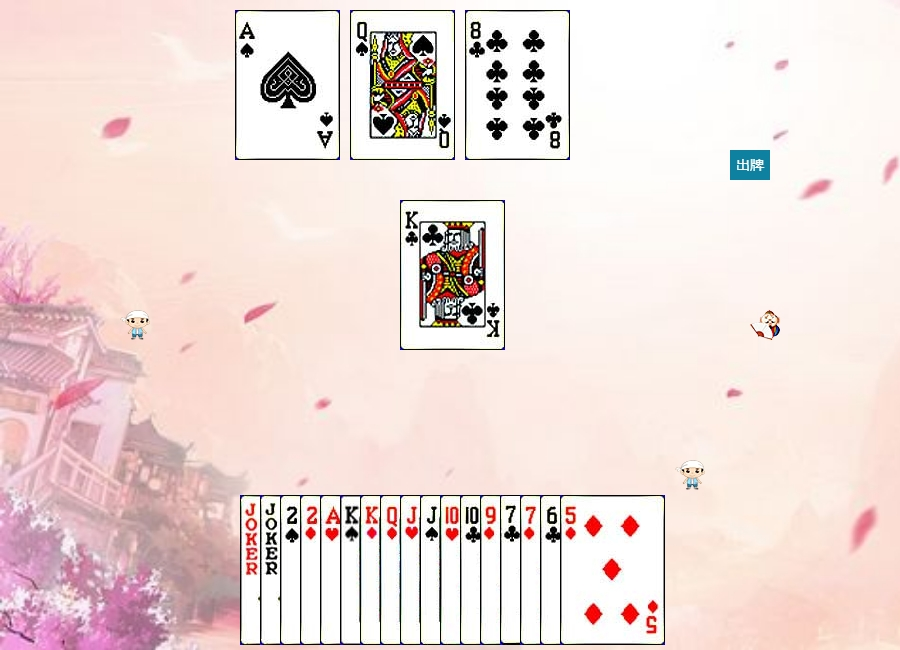10~2: (460, 495, 565, 645)
10~3: (440, 495, 545, 645)
11~3: (400, 495, 505, 645)
11~4: (420, 495, 525, 645)
12~1: (380, 495, 485, 645)
12~4: (350, 10, 455, 160)
13~1: (360, 495, 465, 645)
13~2: (400, 200, 505, 350)
13~4: (340, 495, 445, 645)
14~3: (320, 495, 425, 645)
14~4: (235, 10, 340, 160)
15~1: (300, 495, 405, 645)
15~4: (280, 495, 385, 645)
17~3: (260, 495, 365, 645)
18~4: (240, 495, 345, 645)
5~1: (560, 495, 665, 645)
6~2: (540, 495, 645, 645)
7~1: (520, 495, 625, 645)
7~2: (500, 495, 605, 645)
8~2: (465, 10, 570, 160)
9~1: (480, 495, 585, 645)
